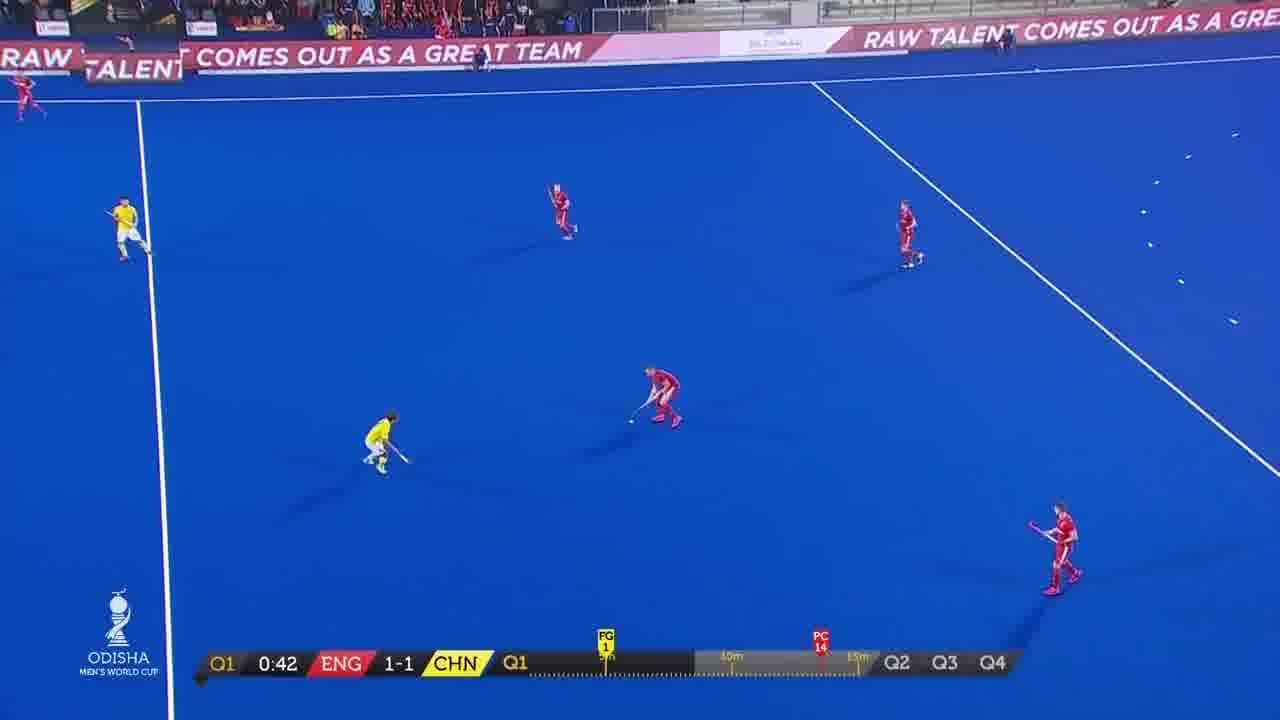ball: (624, 418, 638, 426)
